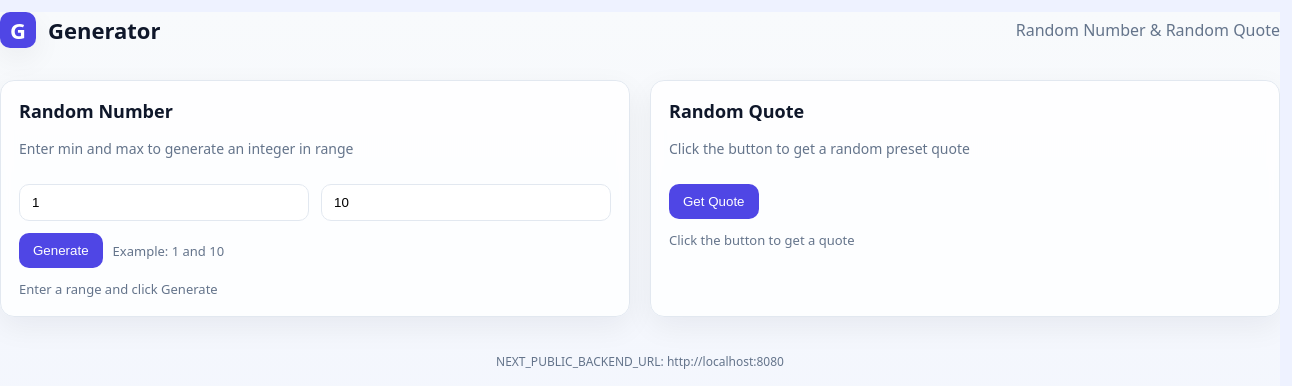
Test case: Page interactions › get quote successfully
Click the button "Get Quote": click(714, 202) [669, 184, 758, 219]
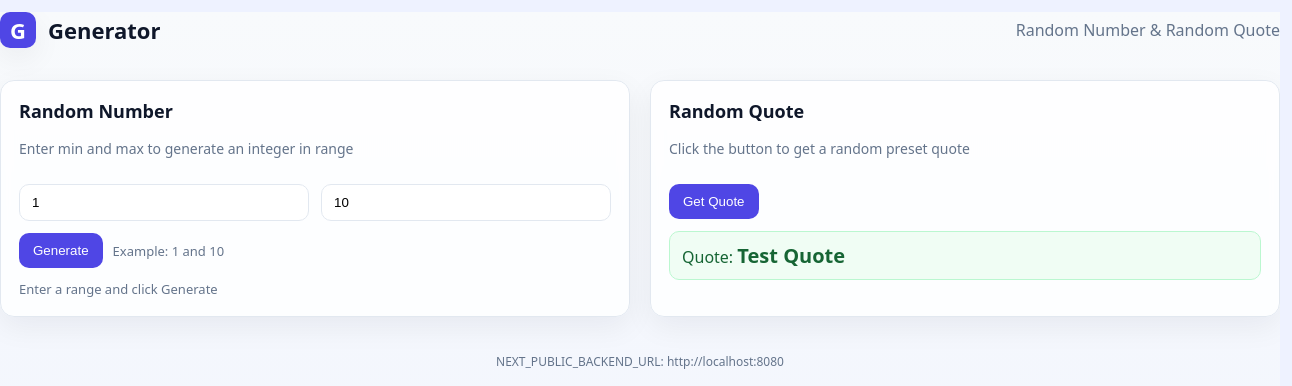
Result: the text "Quote: Test Quote" is shown at [669, 231, 1261, 280]
